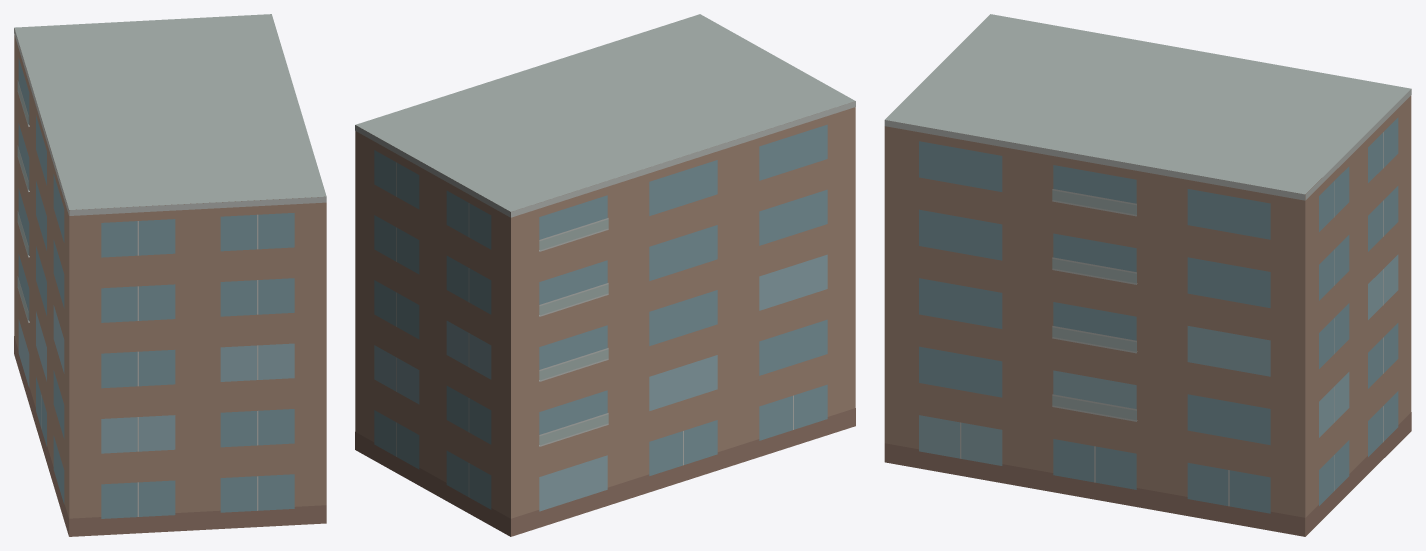
The model's file is survey-upis-32871780.glb.
3 views of the same model, side by side, from view 1: azimuth 30°, elevation 25°; view 2: azimuth 150°, elevation 25°; view 3: azimuth 270°, elevation 25° (orthographic). The views are drawn at different scales.
Visible parts, largest first — view 1: survey-upis-32871780.tmp; view 2: survey-upis-32871780.tmp; view 3: survey-upis-32871780.tmp.
Part boxes in pixels (x1,y1,x2,y2): survey-upis-32871780.tmp: (14, 14, 326, 536); survey-upis-32871780.tmp: (355, 14, 855, 536); survey-upis-32871780.tmp: (884, 14, 1411, 536).
Size of the model in its own units: 15.16 by 13.4 by 18.7.
